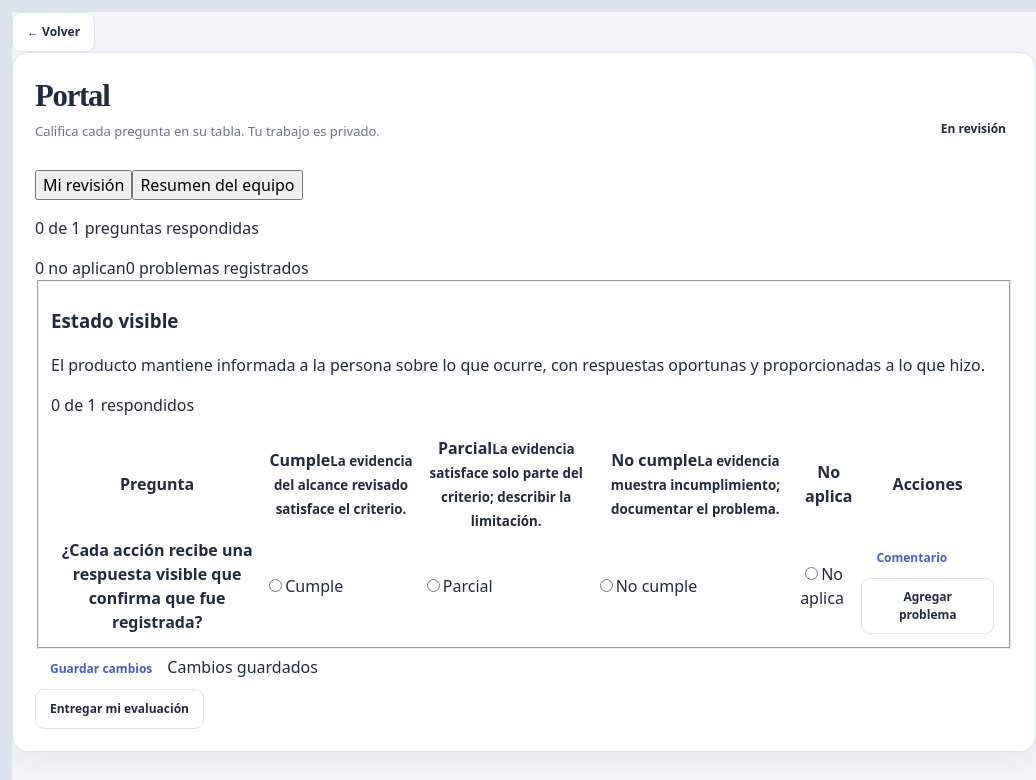
Test: flujo individual › guarda antes de entregar y cierra el trabajo propio
Click the radio button labelled "Cumple" at (276, 586), box [269, 580, 282, 592]
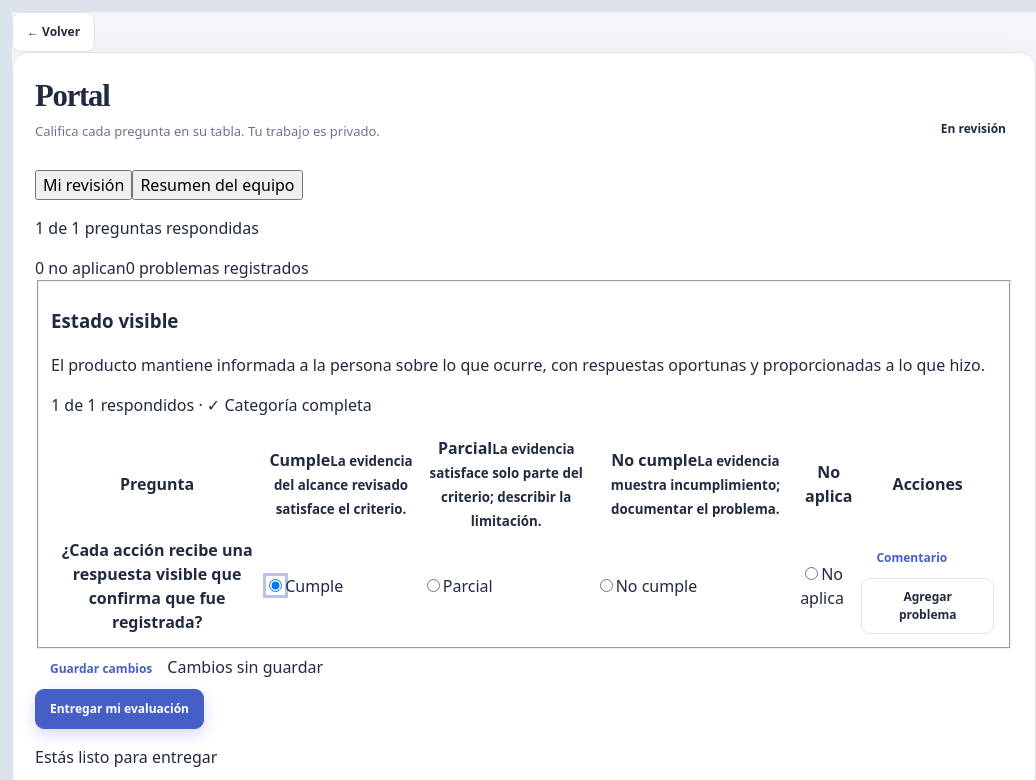
Click the button "Entregar mi evaluación" at (120, 710), box [35, 690, 204, 730]
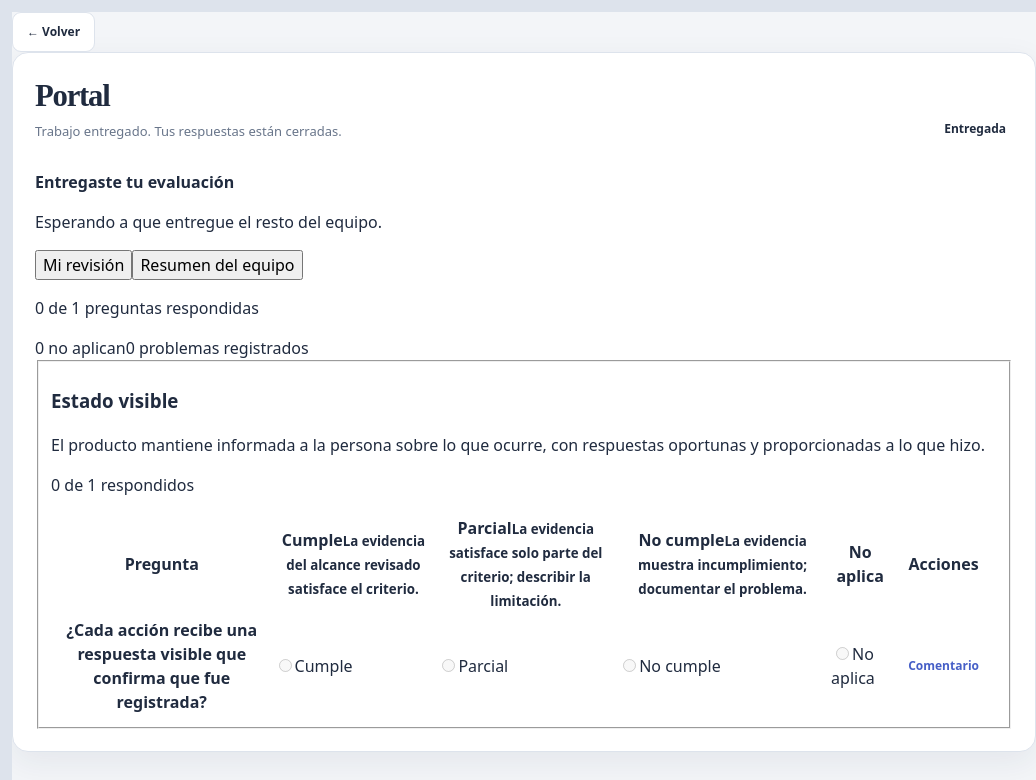
Now the text "Trabajo entregado. Tus respuestas están cerradas." is shown, box [35, 121, 342, 142]
Now the radio button labelled "Cumple" is disabled, box [279, 660, 292, 672]
